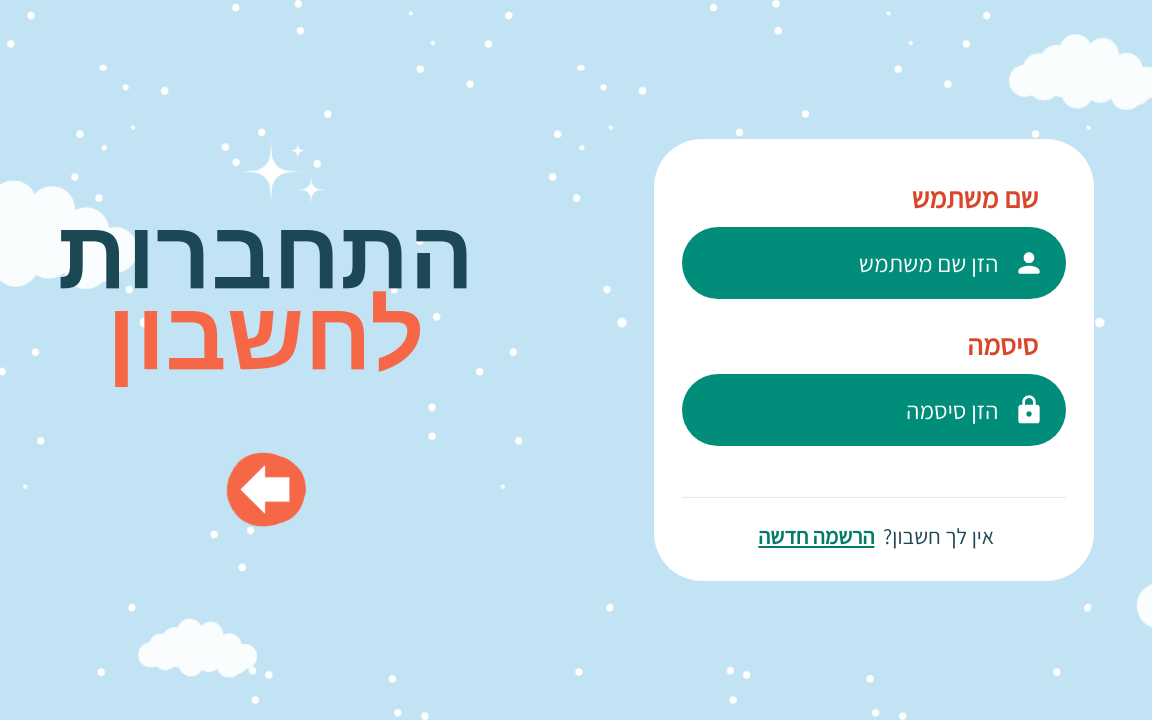
Test: login shows API errors and allows retrying
Step 1. Type "Maya" into the field labelled "שם משתמש" → coordinates (874, 263), box [682,227,1066,299]
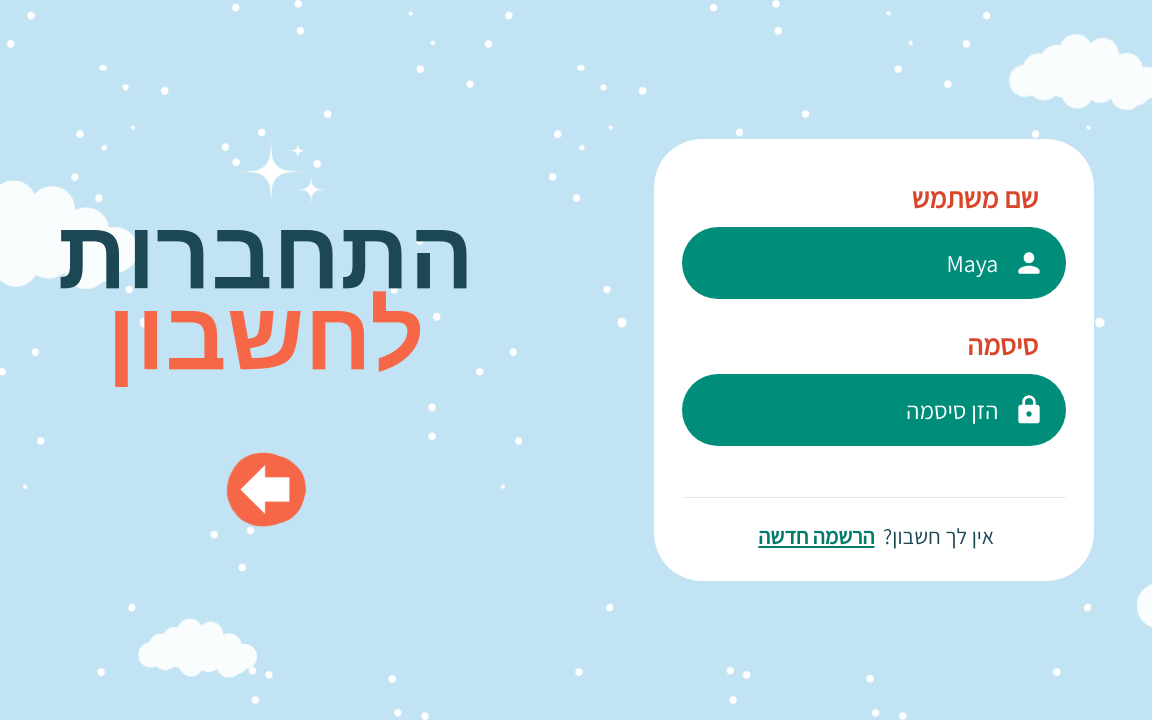
Step 2. Type "secret123" into the password field labelled "סיסמה" → coordinates (874, 410), box [682,374,1066,446]
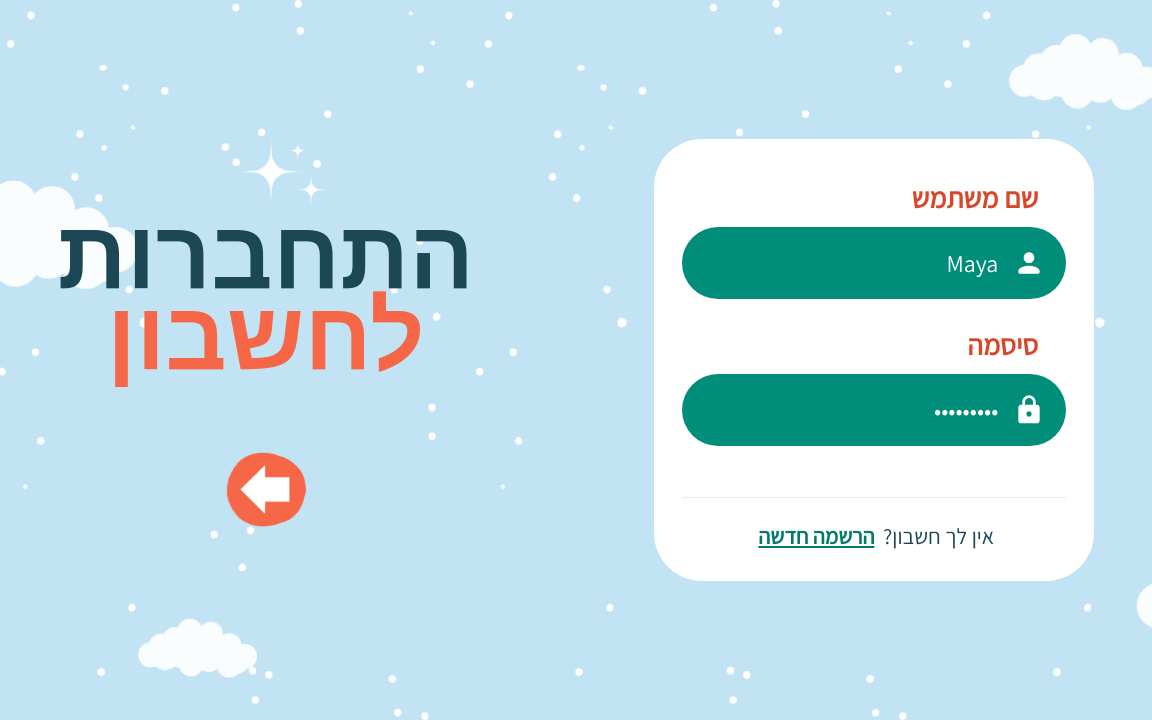
Step 3. Click the button named "התחבר" → coordinates (266, 489), box [218,441,314,537]
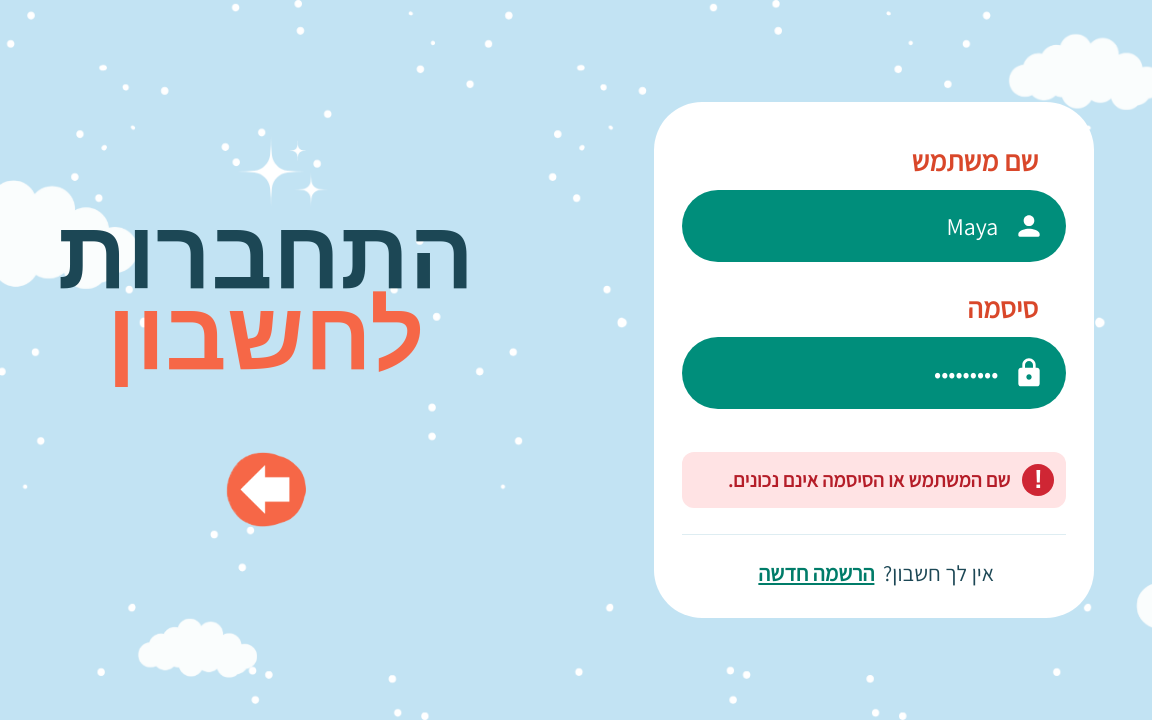
Now the message shows "שם המשתמש או הסיסמה אינם נכונים.", box [728,467,1010,493]
